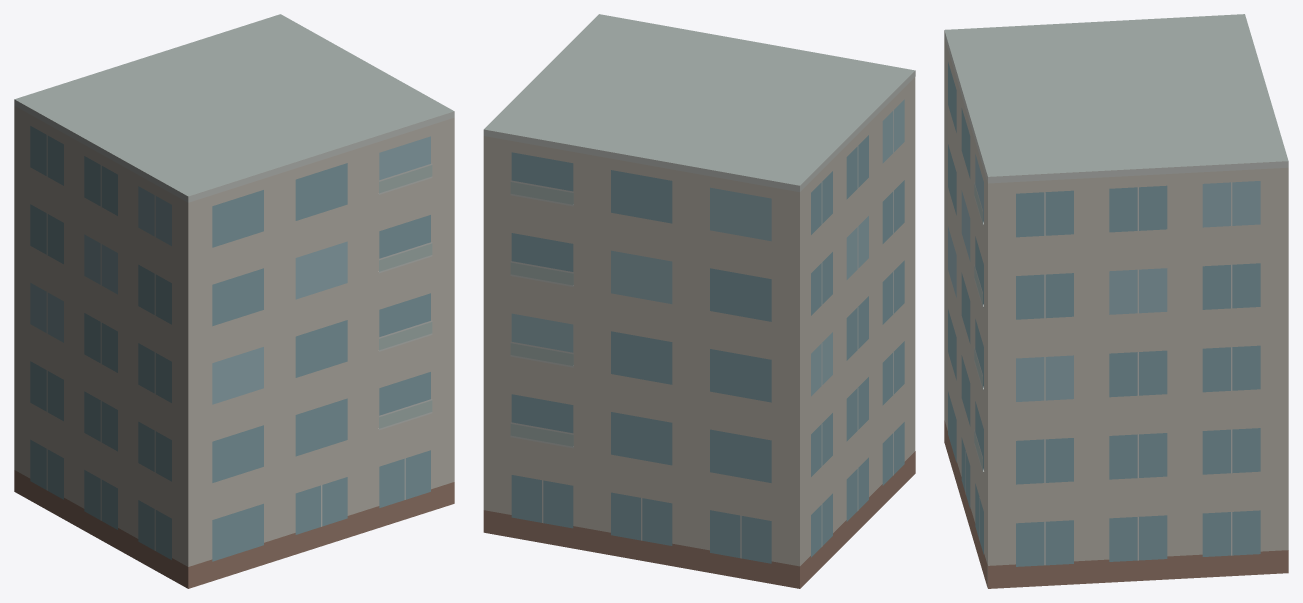
The model's file is survey-upis-32870371.glb.
3 views of the same model, side by side, from view 1: azimuth 30°, elevation 25°; view 2: azimuth 150°, elevation 25°; view 3: azimuth 270°, elevation 25° (orthographic). The views are drawn at different scales.
Parts seen in each view (by area): view 1: survey-upis-32870371.tmp; view 2: survey-upis-32870371.tmp; view 3: survey-upis-32870371.tmp.
Part boxes in pixels (bbox=[...]): survey-upis-32870371.tmp: bbox=[14, 14, 454, 588]; survey-upis-32870371.tmp: bbox=[483, 14, 915, 588]; survey-upis-32870371.tmp: bbox=[944, 14, 1288, 588].
Bounding box in the file's own units: 12.94 × 15.25 × 11.56.
